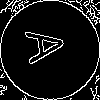A: (25, 25, 75, 66)
